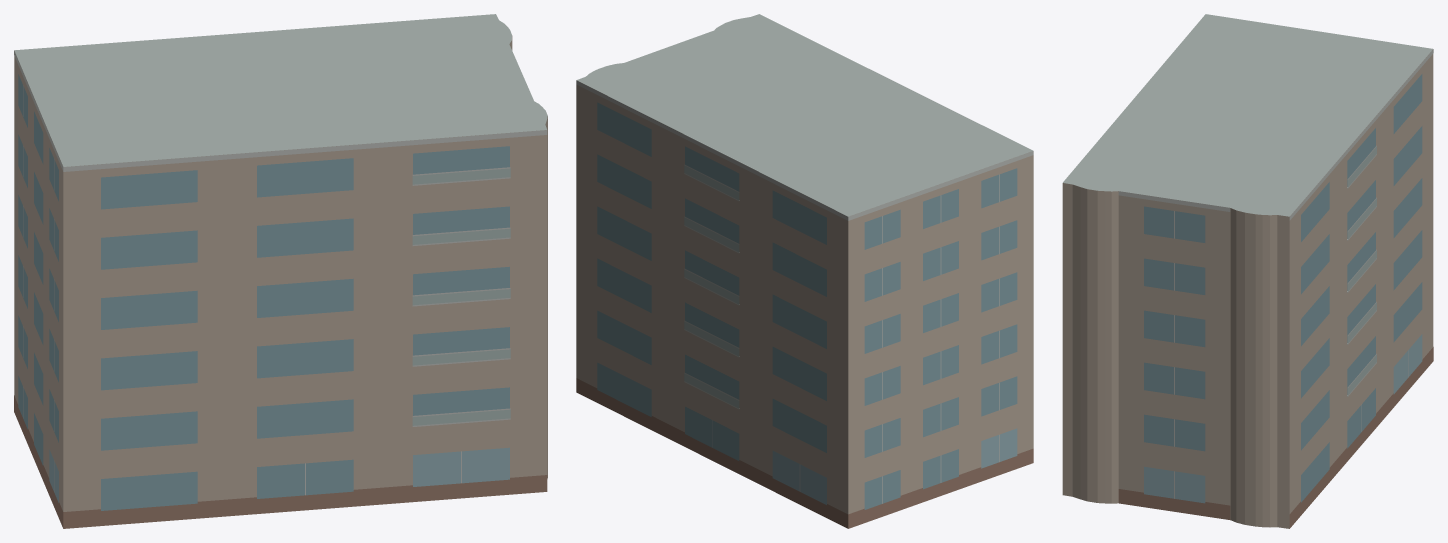
Rendered from survey-upis-32885037.glb.
3 renders of one model, left to right at view 1: azimuth 30°, elevation 25°; view 2: azimuth 150°, elevation 25°; view 3: azimuth 270°, elevation 25°, orthographic. The views are drawn at different scales.
Parts seen in each view (by area): view 1: survey-upis-32885037.tmp; view 2: survey-upis-32885037.tmp; view 3: survey-upis-32885037.tmp.
Boxes of the visible parts, box(x1,y1,x2,y2) form: survey-upis-32885037.tmp: box(14, 14, 547, 528); survey-upis-32885037.tmp: box(576, 14, 1033, 528); survey-upis-32885037.tmp: box(1062, 14, 1433, 528).
Bounding box in the file's own units: 24.71 × 17.75 × 19.12.
